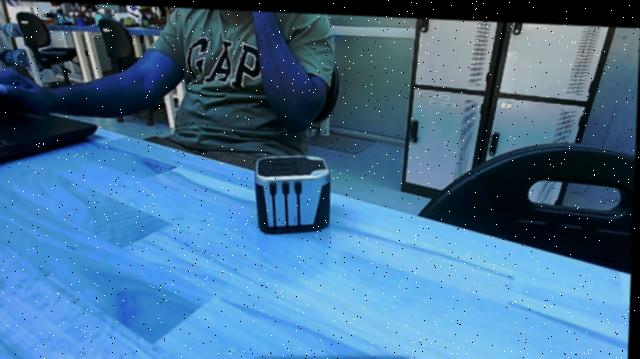adapter: (247, 145, 339, 236)
